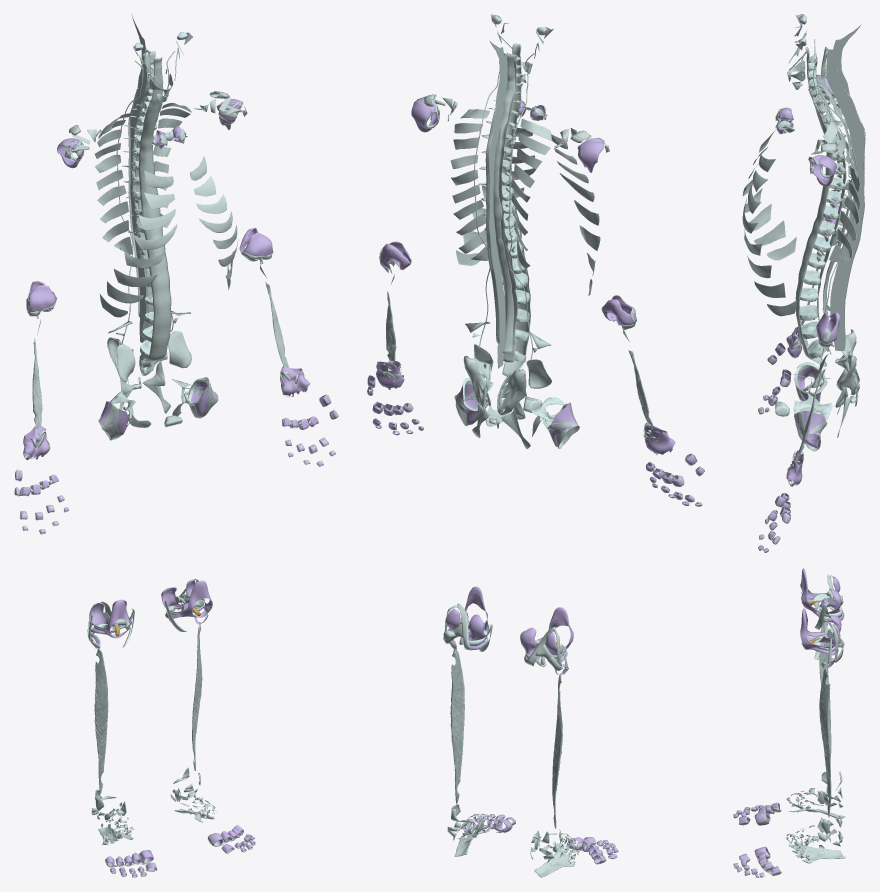
Rendered from joints.glb.
The picture shows the model from 3 angles, left to right: view 1: azimuth 30°, elevation 25°; view 2: azimuth 150°, elevation 25°; view 3: azimuth 270°, elevation 25°; orthographic projection. The views are drawn at different scales.
Visible parts, largest first — view 1: object 1, External intercostal membrane.r, Internal intercostal membrane.r, External intercostal membrane.l, Interosseous membrane of leg.r, object 2, Articular capsule of knee joint.l, Internal intercostal membrane.l, Articular capsule of knee joint.r, Articular capsule of elbow joint.l, Interosseous membrane of leg.l, Articular capsule of elbow joint.r (+1 smaller); view 2: object 1, Internal intercostal membrane.l, object 2, Internal intercostal membrane.r, Interosseous membrane of leg.l, External intercostal membrane.r, Articular capsule of knee joint.l, Articular capsule of knee joint.r, Posterior sacro-iliac ligament.r, External intercostal membrane.l, Posterior sacro-iliac ligament.l, Interosseous membrane of leg.r (+1 smaller); view 3: object 1, object 2, External intercostal membrane.l, Internal intercostal membrane.l, External intercostal membrane.r, Interosseous membrane of leg.l, Articular capsule of knee joint.r, Articular capsule of knee joint.l, Long plantar ligament.l, Articular capsule of elbow joint.l, Articular capsule of hip joint.l, Posterior sacro-iliac ligament.l (+12 smaller).
Boxes of the visible parts, box(x1,y1,x2,y2) form: object 1: box(116, 14, 186, 647); External intercostal membrane.r: box(99, 170, 177, 317); Internal intercostal membrane.r: box(94, 113, 133, 254); External intercostal membrane.l: box(190, 156, 238, 289); Interosseous membrane of leg.r: box(94, 648, 108, 793); object 2: box(132, 64, 182, 426); Articular capsule of knee joint.l: box(161, 579, 212, 618); Internal intercostal membrane.l: box(153, 102, 191, 235); Articular capsule of knee joint.r: box(90, 599, 131, 638); Articular capsule of elbow joint.l: box(239, 227, 272, 261); Interosseous membrane of leg.l: box(192, 622, 202, 770); Articular capsule of elbow joint.r: box(27, 281, 56, 311); object 1: box(473, 40, 541, 666); Internal intercostal membrane.l: box(450, 109, 489, 260); object 2: box(488, 56, 542, 424); Internal intercostal membrane.r: box(511, 118, 551, 271); Interosseous membrane of leg.l: box(450, 649, 464, 804); External intercostal membrane.r: box(551, 134, 600, 295); Articular capsule of knee joint.l: box(445, 586, 489, 649); Articular capsule of knee joint.r: box(520, 607, 573, 663); Posterior sacro-iliac ligament.r: box(497, 368, 526, 415); External intercostal membrane.l: box(456, 127, 536, 265); Posterior sacro-iliac ligament.l: box(463, 355, 490, 411); Interosseous membrane of leg.r: box(552, 673, 562, 828); object 1: box(775, 24, 865, 657); object 2: box(775, 55, 855, 416); External intercostal membrane.l: box(742, 154, 796, 316); Internal intercostal membrane.l: box(823, 116, 860, 262); External intercostal membrane.r: box(742, 129, 796, 260); Interosseous membrane of leg.l: box(819, 668, 831, 817); Articular capsule of knee joint.r: box(800, 568, 843, 622); Articular capsule of knee joint.l: box(800, 608, 841, 655); Long plantar ligament.l: box(788, 843, 845, 864); Articular capsule of elbow joint.l: box(816, 312, 840, 343); Articular capsule of hip joint.l: box(794, 411, 825, 447); Posterior sacro-iliac ligament.l: box(835, 354, 859, 395).
Size of the model in its own units: 0.6615 by 1.58 by 0.2308.
